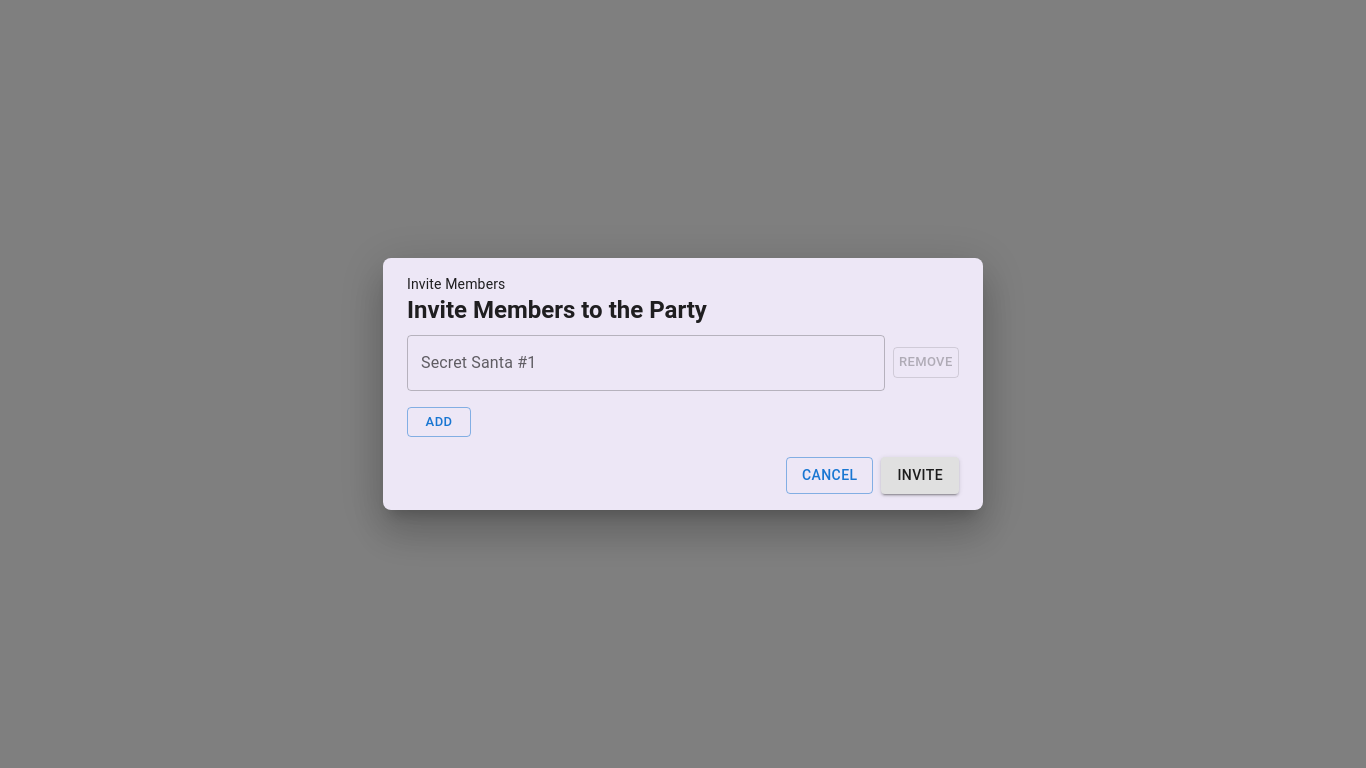
InviteMembers › removes a field when Remove is clicked with multiple rows
Click the button "Add": (439,422) [407, 407, 471, 437]
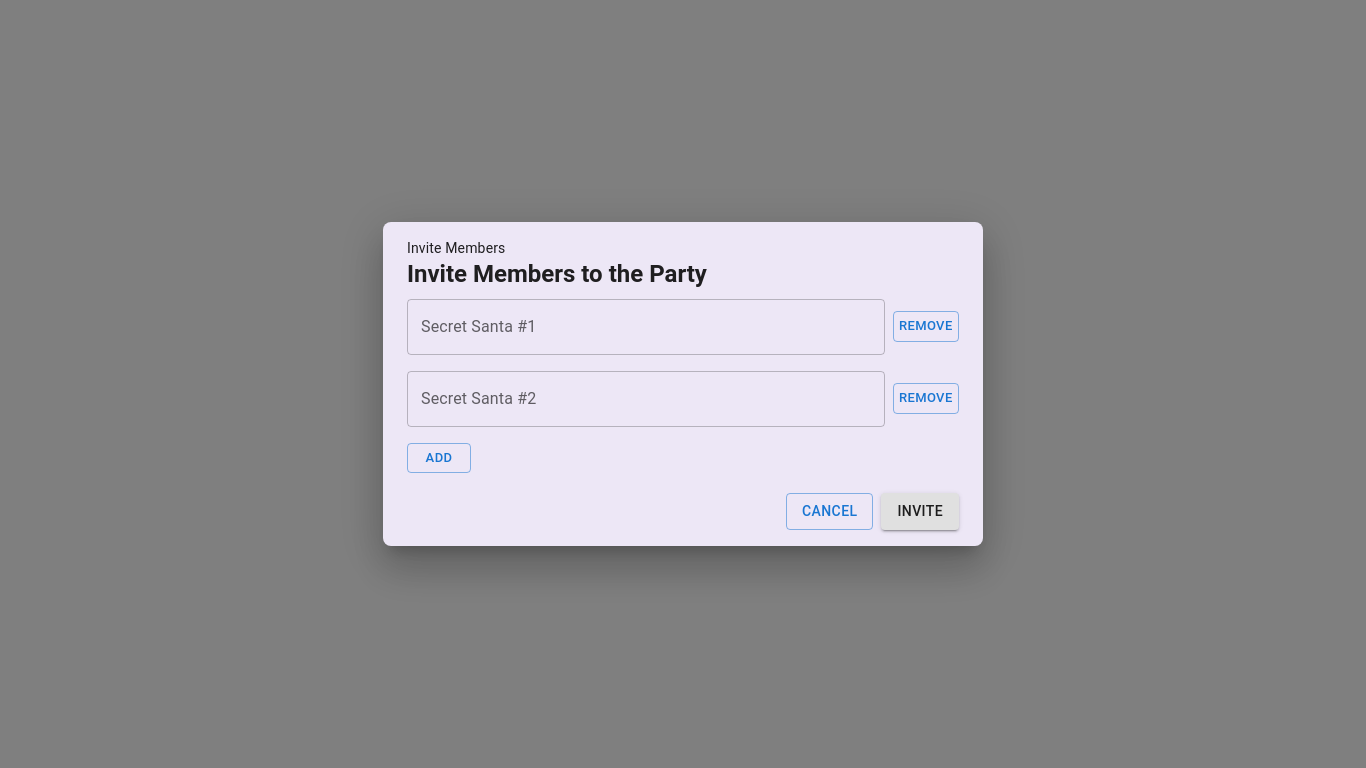
Click the button "Remove" in the row of "Secret Santa #1": (926,327) [892, 311, 959, 342]
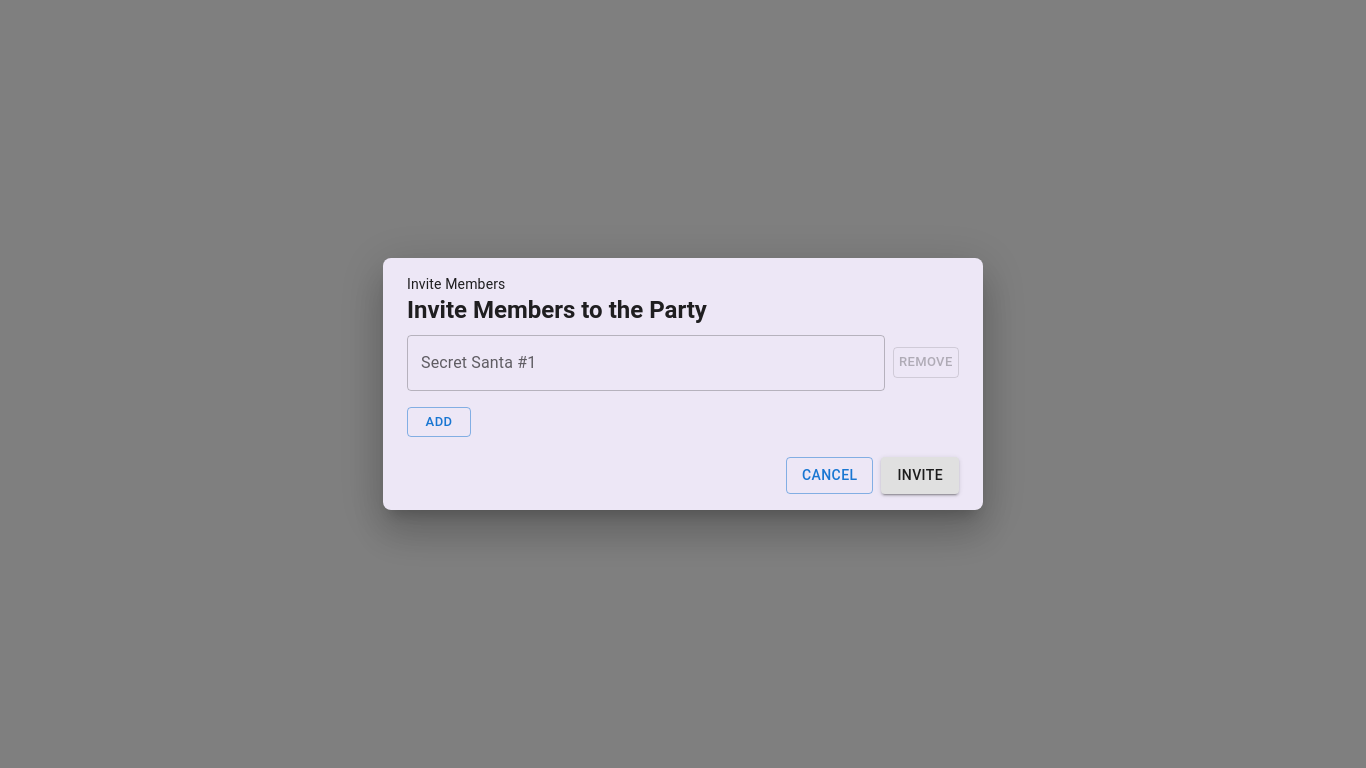
Now the number of fields is 1, box [407, 335, 884, 391]
